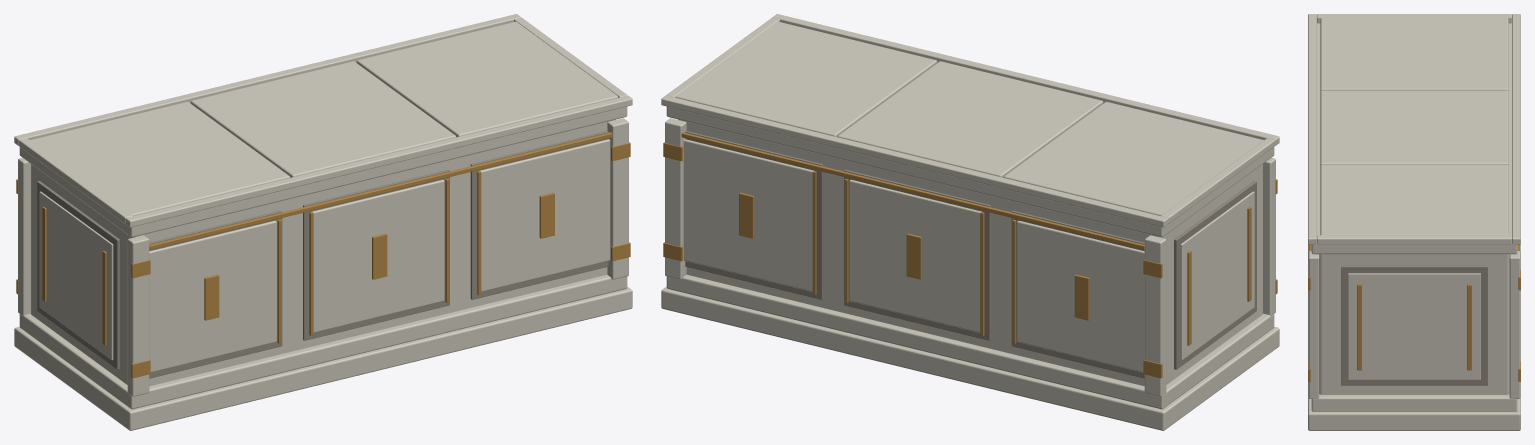
Rendered from SM_Aurelion_KIT_Z06CoverCoffer.fbx.
The picture shows the model from 3 angles, left to right: view 1: azimuth 30°, elevation 25°; view 2: azimuth 150°, elevation 25°; view 3: azimuth 270°, elevation 25°; orthographic projection. The views are drawn at different scales.
Visible parts, largest first — view 1: SM_Aurelion_KIT_Z06CoverCoffer; view 2: SM_Aurelion_KIT_Z06CoverCoffer; view 3: SM_Aurelion_KIT_Z06CoverCoffer.
Boxes of the visible parts, left/top/right/bottom form: SM_Aurelion_KIT_Z06CoverCoffer: left=14, top=14, right=632, bottom=430; SM_Aurelion_KIT_Z06CoverCoffer: left=661, top=14, right=1279, bottom=430; SM_Aurelion_KIT_Z06CoverCoffer: left=1308, top=14, right=1520, bottom=430.
Size of the model in its own units: 300 by 120 by 120.
